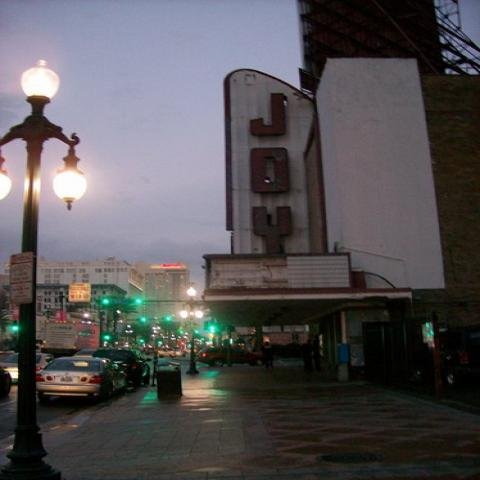car: (35, 356, 132, 404), (90, 350, 152, 388), (3, 352, 57, 380), (197, 345, 264, 367), (158, 347, 189, 358)
truck: (193, 347, 265, 367), (40, 321, 76, 356)
